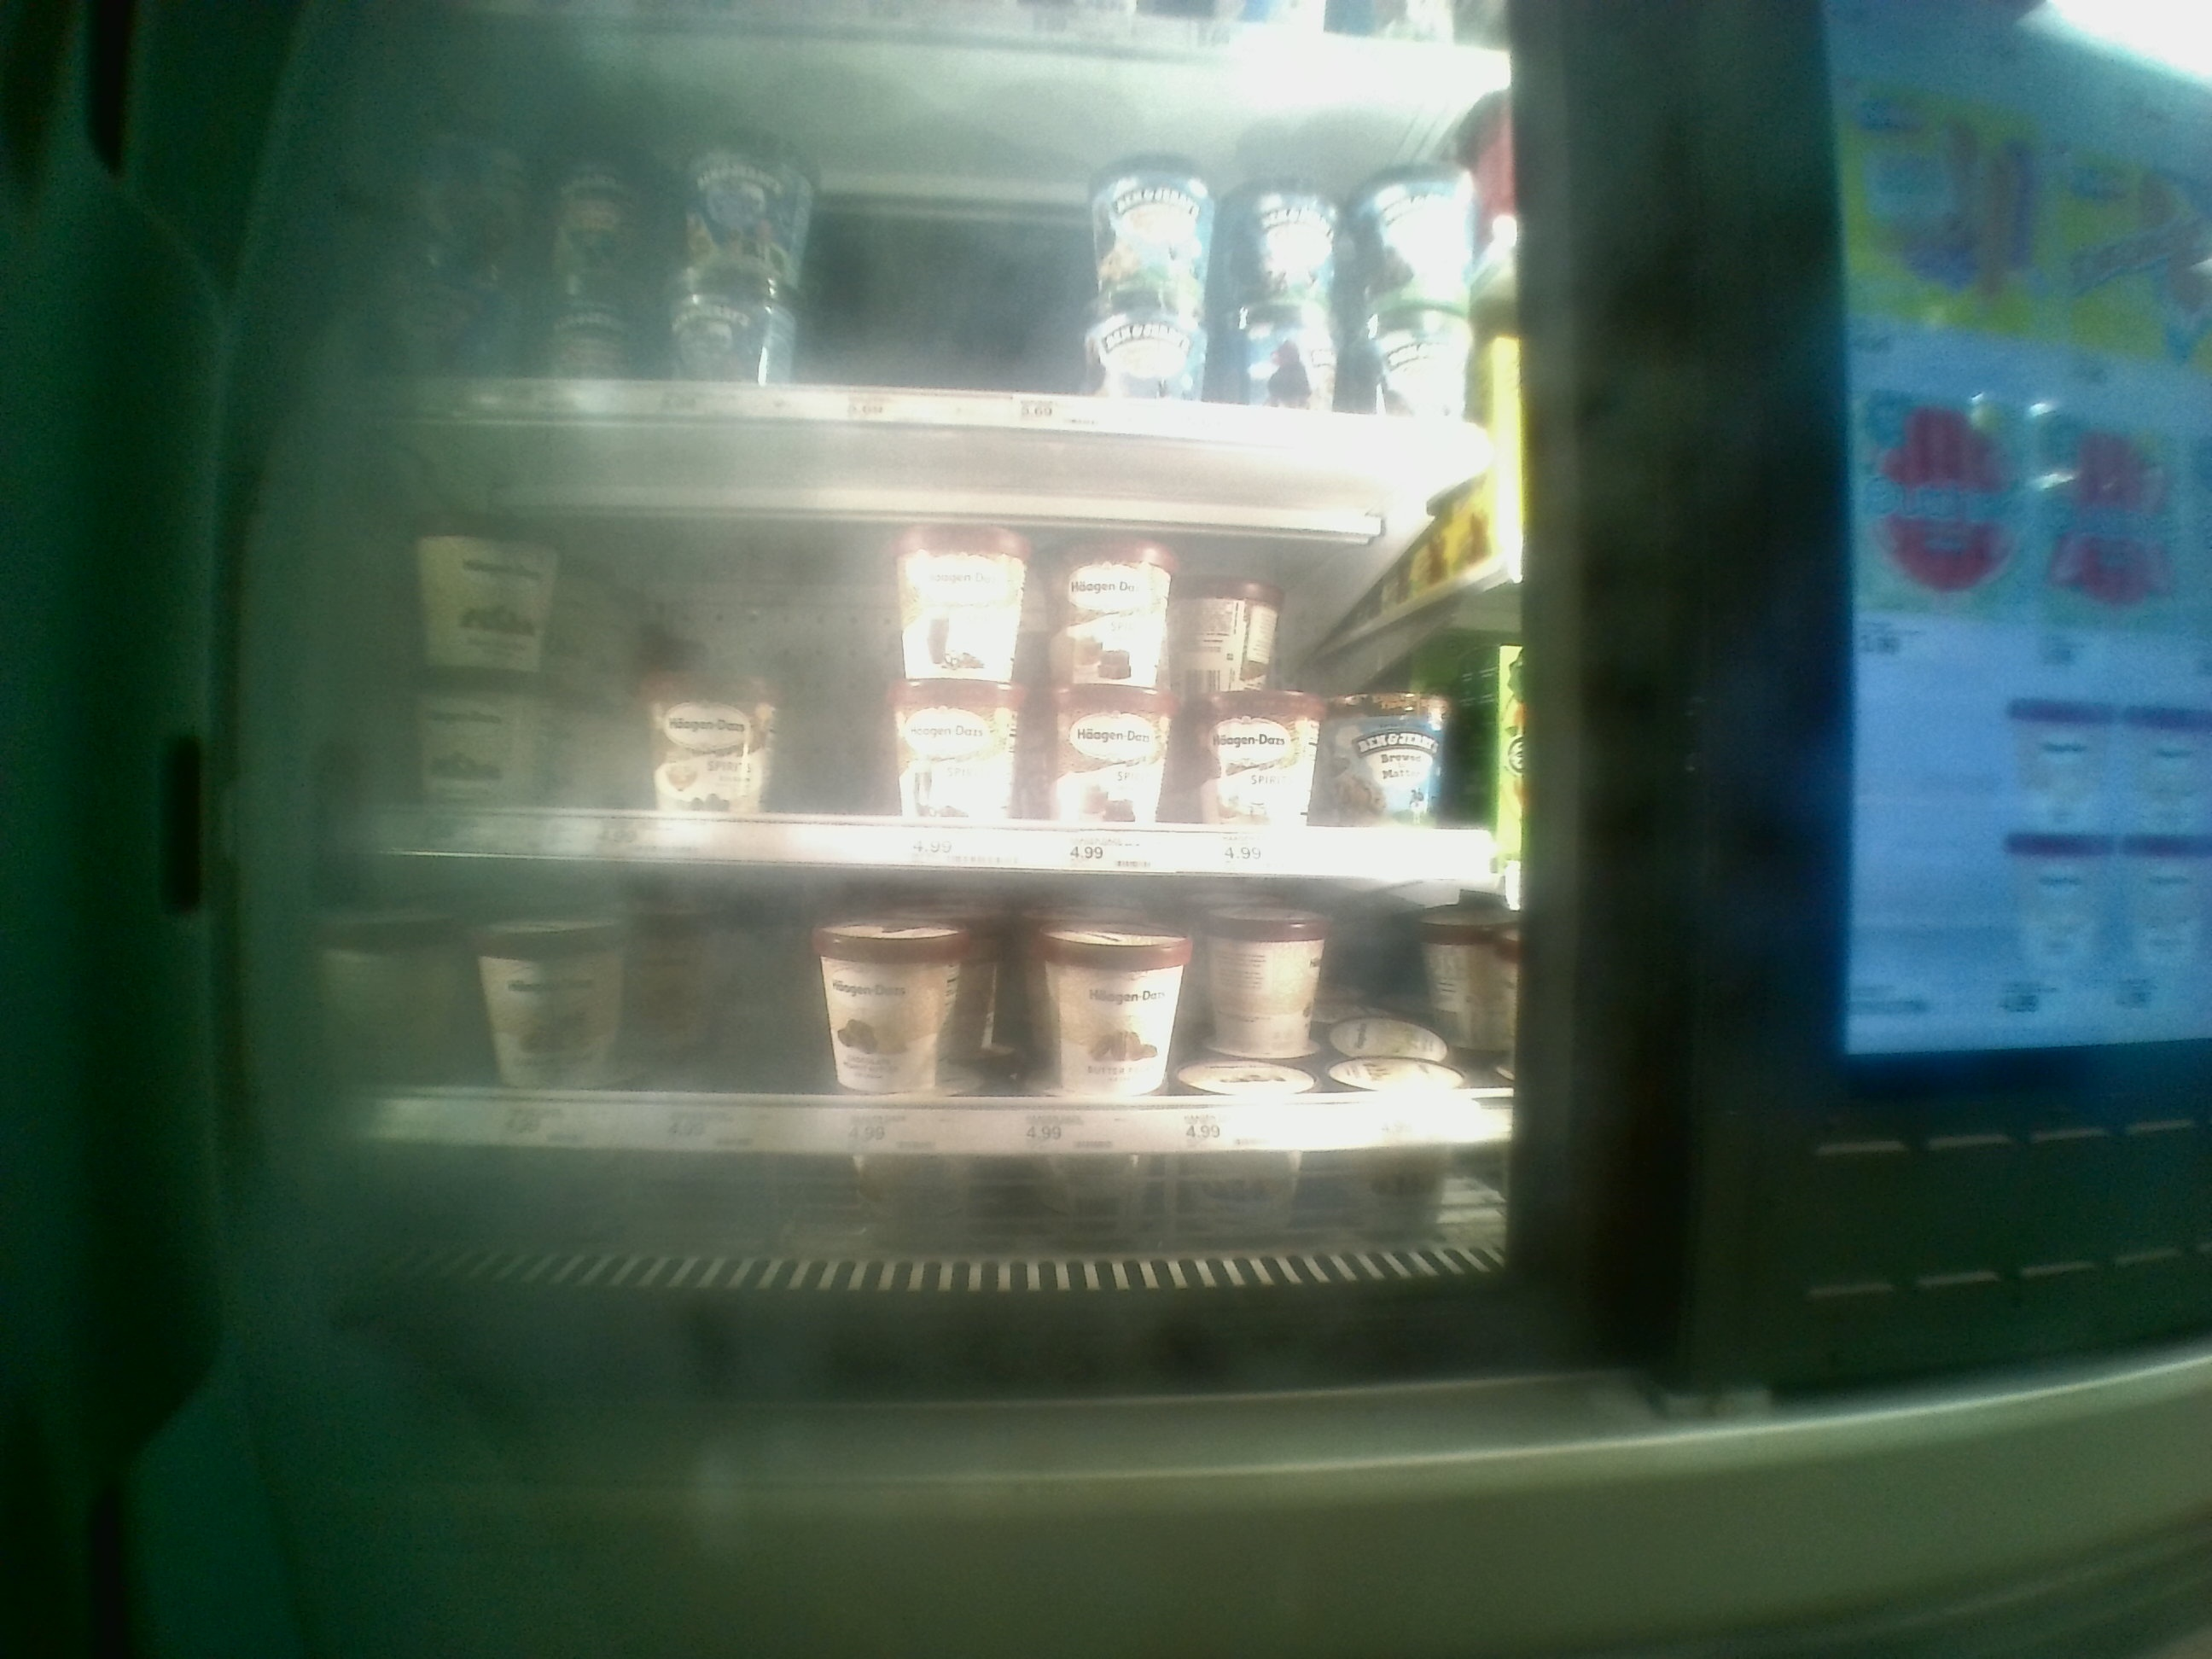shelf: (361, 420, 1510, 873), (354, 852, 1526, 1288)
